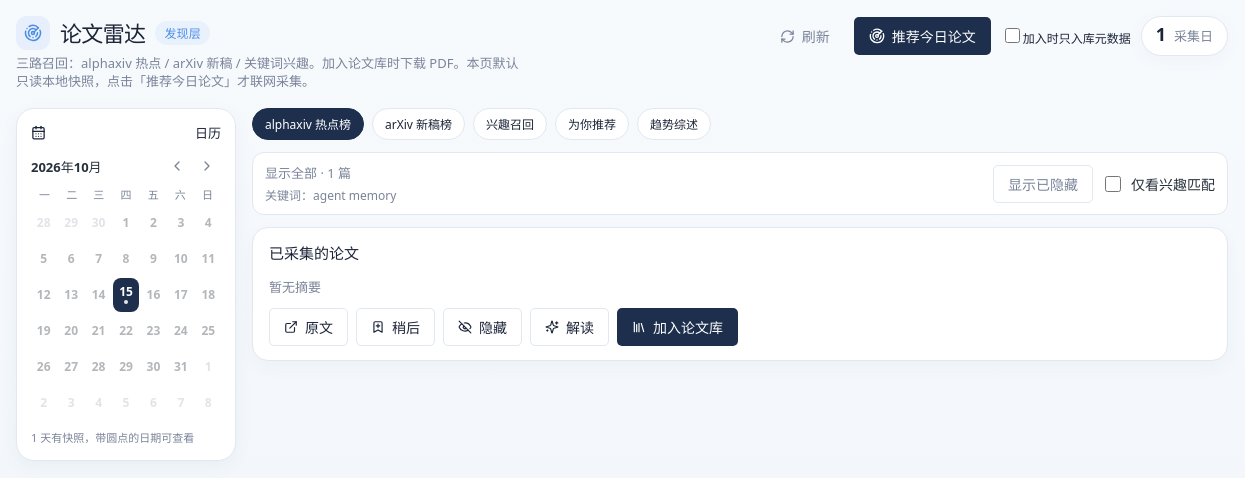
Test: radar board filtering › shows the actual filter state after enabling it with the default disabled
Expected: the text "已采集的论文" is shown, [269,243,359,263]
Click the checkbox labelled "仅看兴趣匹配" at (1113,184), box [1105,176,1121,192]
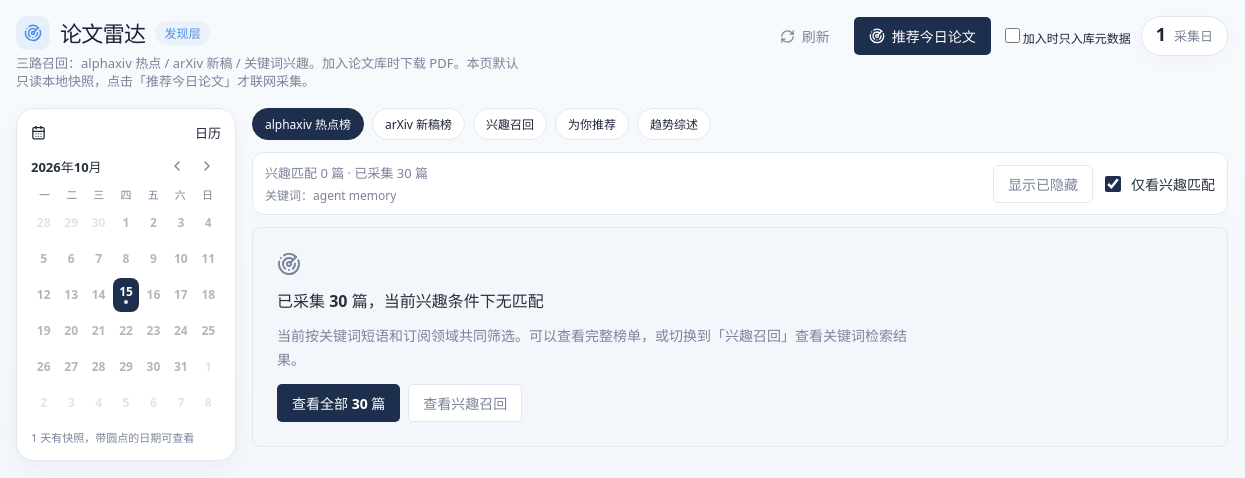
Now the button "查看全部 30 篇" is shown, box [277,384,400,422]
Now the text "兴趣匹配 0 篇 · 已采集 30 篇" is shown, box [265,164,428,182]
